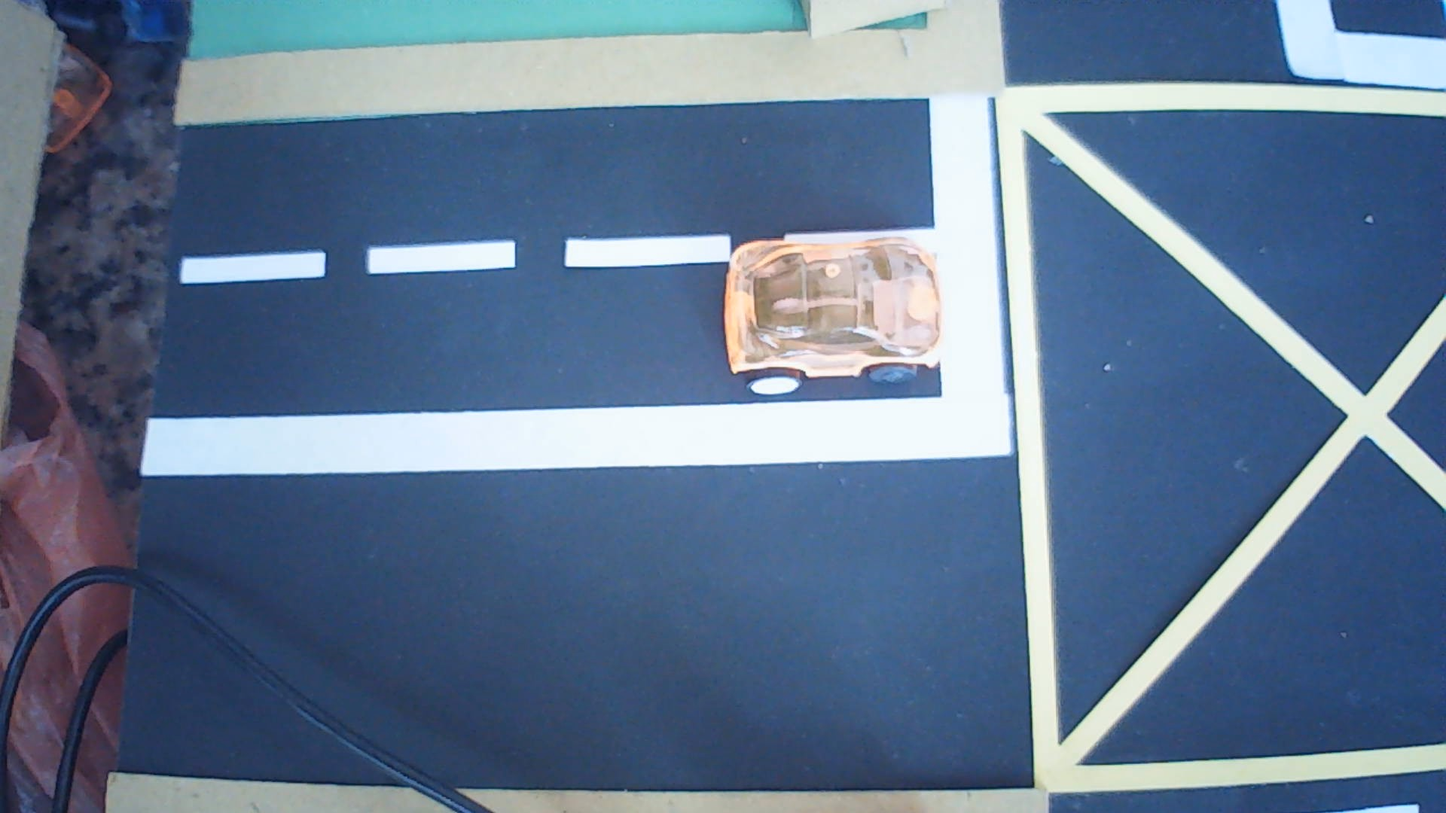Mobil orange: (724, 236, 941, 394)
